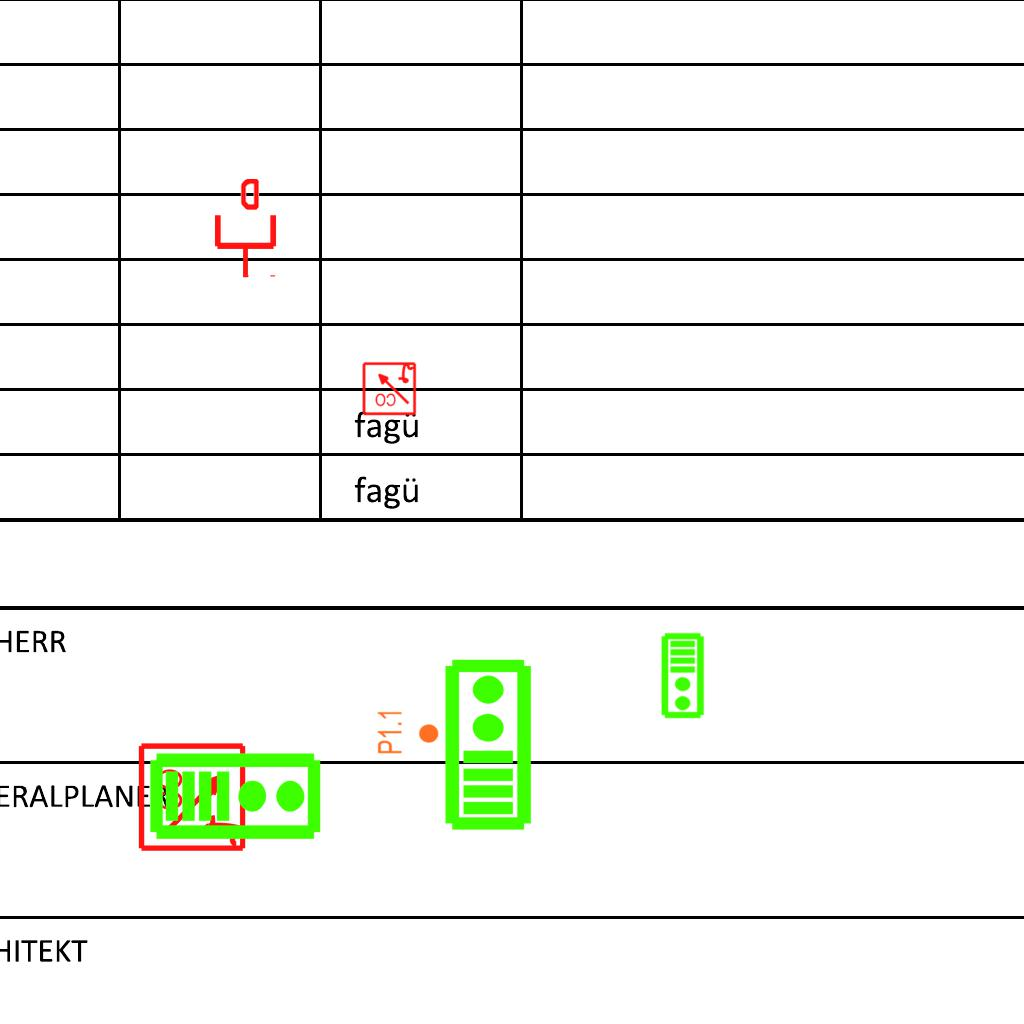Datenanschluss_einfach: (211, 179, 280, 279)
Downlight_LED_Einbauleuchten_Flur: (376, 709, 440, 755)
Gegensprechanlage_mit_Video: (439, 656, 534, 832), (148, 747, 324, 842), (660, 632, 707, 720)
ROA_Rauchmelder_optisch_mit_Signalgeber_(Sockelsirene): (137, 740, 250, 853), (361, 360, 417, 416)
